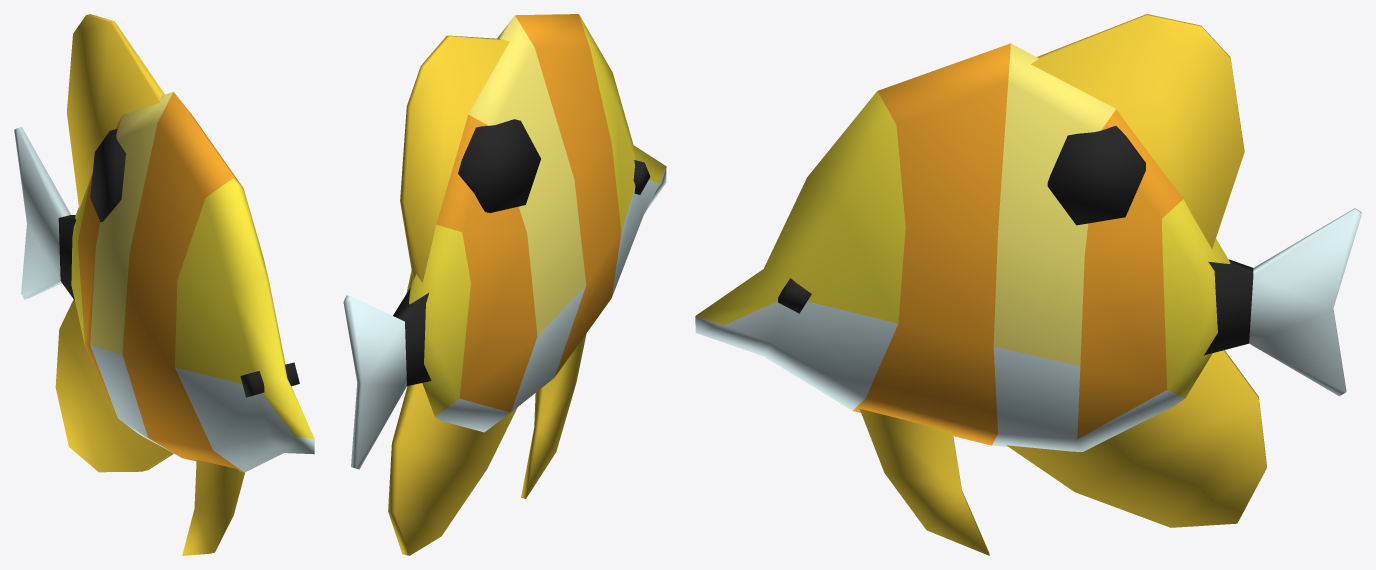
File: YellowOrangeFish.fbx
The picture shows the model from 3 angles, left to right: view 1: azimuth 30°, elevation 25°; view 2: azimuth 150°, elevation 25°; view 3: azimuth 270°, elevation 25°; orthographic projection. The views are drawn at different scales.
Parts seen in each view (by area): view 1: Fish_027; view 2: Fish_027; view 3: Fish_027.
Boxes of the visible parts, bbox=[...] form: Fish_027: bbox=[14, 14, 314, 555]; Fish_027: bbox=[343, 14, 666, 555]; Fish_027: bbox=[695, 14, 1361, 555].
Bounding box in the file's own units: 9.78 × 38.26 × 42.9.
